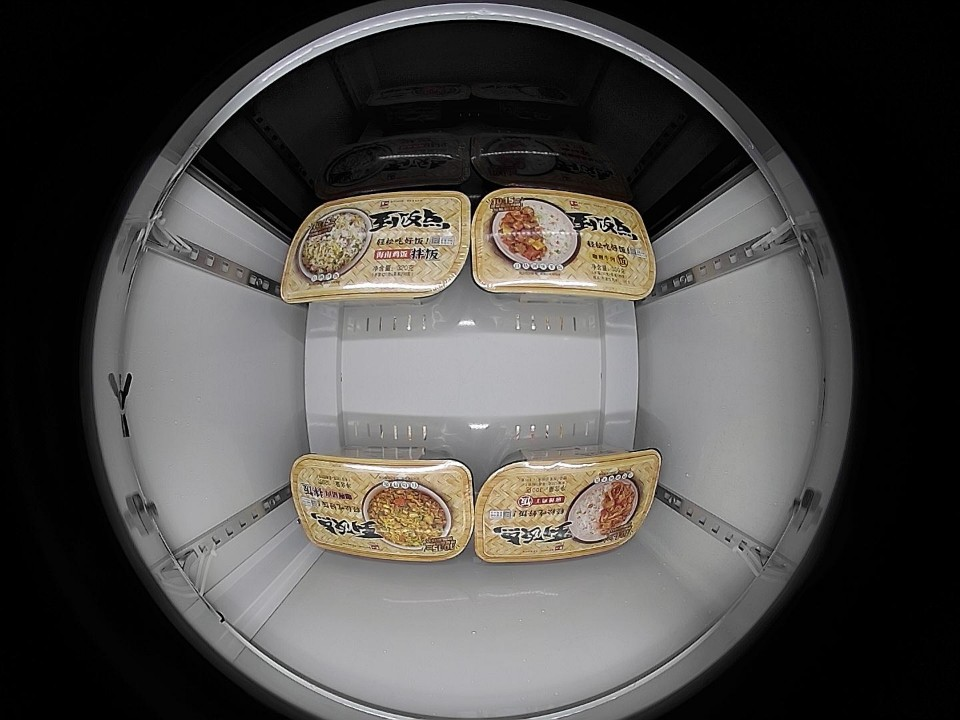daofandian1: (280, 189, 473, 304)
daofandian2: (469, 186, 657, 302)
daofandian3: (290, 454, 475, 562)
daofandian4: (472, 448, 662, 563)
